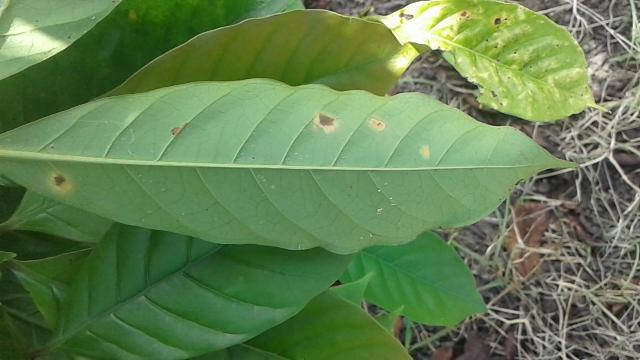rust_level_1: (0, 76, 592, 256)
